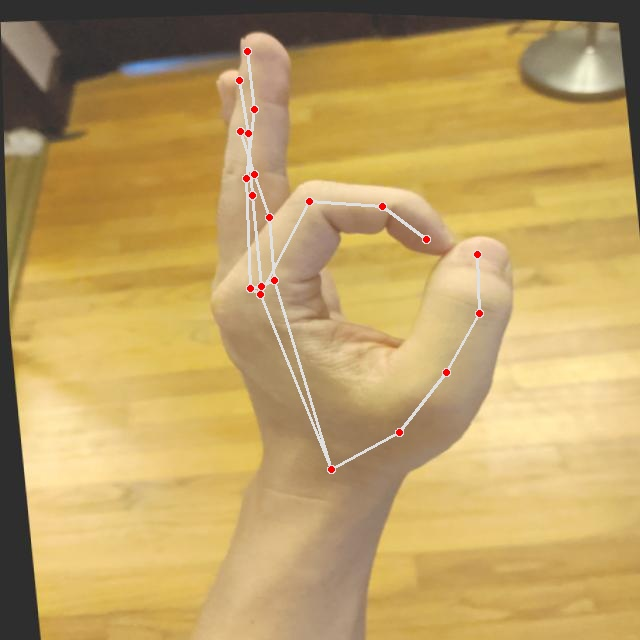F: (171, 6, 538, 492)
